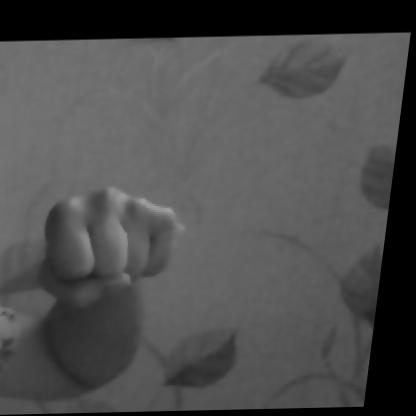fist: (2, 133, 206, 414)
